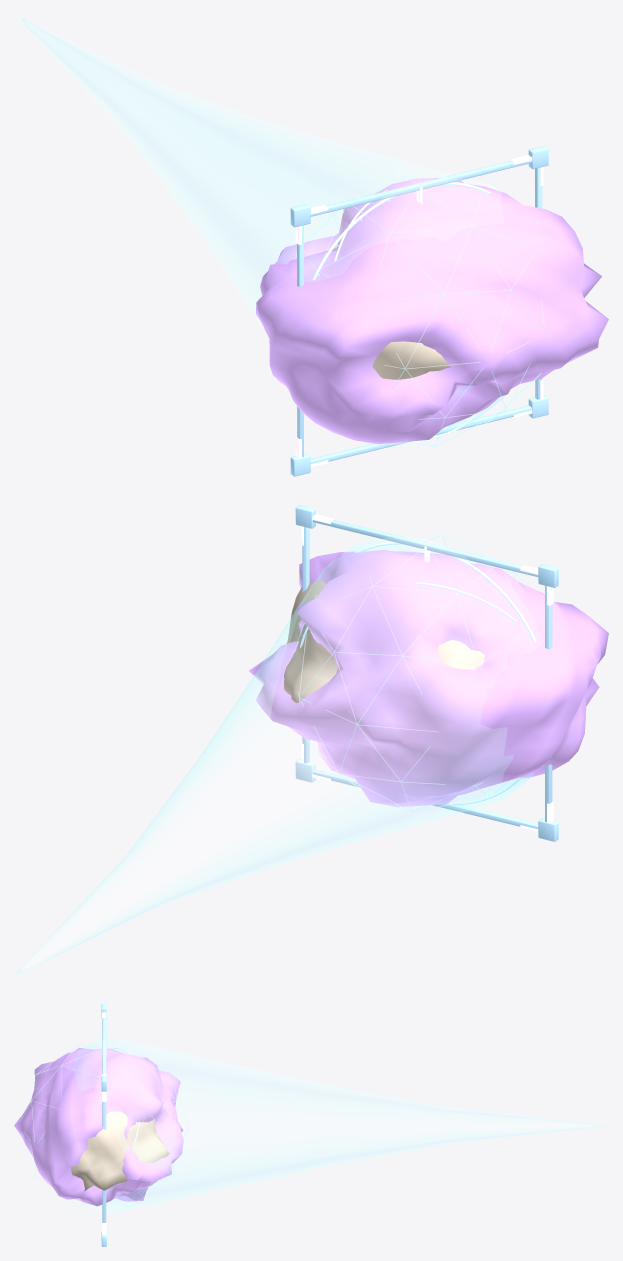
File: boveda.glb
3 renders of one model, top to bottom at view 1: azimuth 30°, elevation 25°; view 2: azimuth 150°, elevation 25°; view 3: azimuth 270°, elevation 25°, orthographic. The views are drawn at different scales.
Parts seen in each view (by area): view 1: Boveda_Asteroid_SPX26, Boveda_Comet_Tail, Boveda_Detector_Bezel, Boveda_Healpix_Dome, Boveda_Asteroid_Confirmado, Boveda_Detector_Guides, Boveda_Astrolabe_Rig; view 2: Boveda_Comet_Tail, Boveda_Asteroid_SPX26, Boveda_Detector_Bezel, Boveda_Asteroid_Confirmado, Boveda_Healpix_Dome, Boveda_Astrolabe_Rig, Boveda_Detector_Guides; view 3: Boveda_Comet_Tail, Boveda_Asteroid_SPX26, Boveda_Asteroid_Confirmado, Boveda_Healpix_Dome, Boveda_Detector_Bezel.
Part boxes in pixels (x1=…): Boveda_Asteroid_SPX26: x1=255, y1=178, x2=608, y2=444; Boveda_Comet_Tail: x1=15, y1=15, x2=504, y2=445; Boveda_Detector_Bezel: x1=290, y1=146, x2=548, y2=476; Boveda_Healpix_Dome: x1=295, y1=175, x2=544, y2=447; Boveda_Asteroid_Confirmado: x1=327, y1=247, x2=450, y2=379; Boveda_Detector_Guides: x1=295, y1=155, x2=543, y2=467; Boveda_Astrolabe_Rig: x1=312, y1=182, x2=490, y2=438; Boveda_Comet_Tail: x1=14, y1=537, x2=540, y2=975; Boveda_Asteroid_SPX26: x1=249, y1=550, x2=608, y2=807; Boveda_Detector_Bezel: x1=295, y1=505, x2=558, y2=841; Boveda_Asteroid_Confirmado: x1=284, y1=580, x2=484, y2=702; Boveda_Healpix_Dome: x1=293, y1=534, x2=534, y2=811; Boveda_Astrolabe_Rig: x1=300, y1=542, x2=536, y2=805; Boveda_Detector_Guides: x1=301, y1=514, x2=553, y2=832; Boveda_Comet_Tail: x1=72, y1=1036, x2=606, y2=1214; Boveda_Asteroid_SPX26: x1=14, y1=1047, x2=183, y2=1206; Boveda_Asteroid_Confirmado: x1=71, y1=1111, x2=169, y2=1191; Boveda_Healpix_Dome: x1=20, y1=1044, x2=189, y2=1206; Boveda_Detector_Bezel: x1=101, y1=1004, x2=106, y2=1246.
Size of the model in its own units: 2.58 by 2.14 by 6.96.
